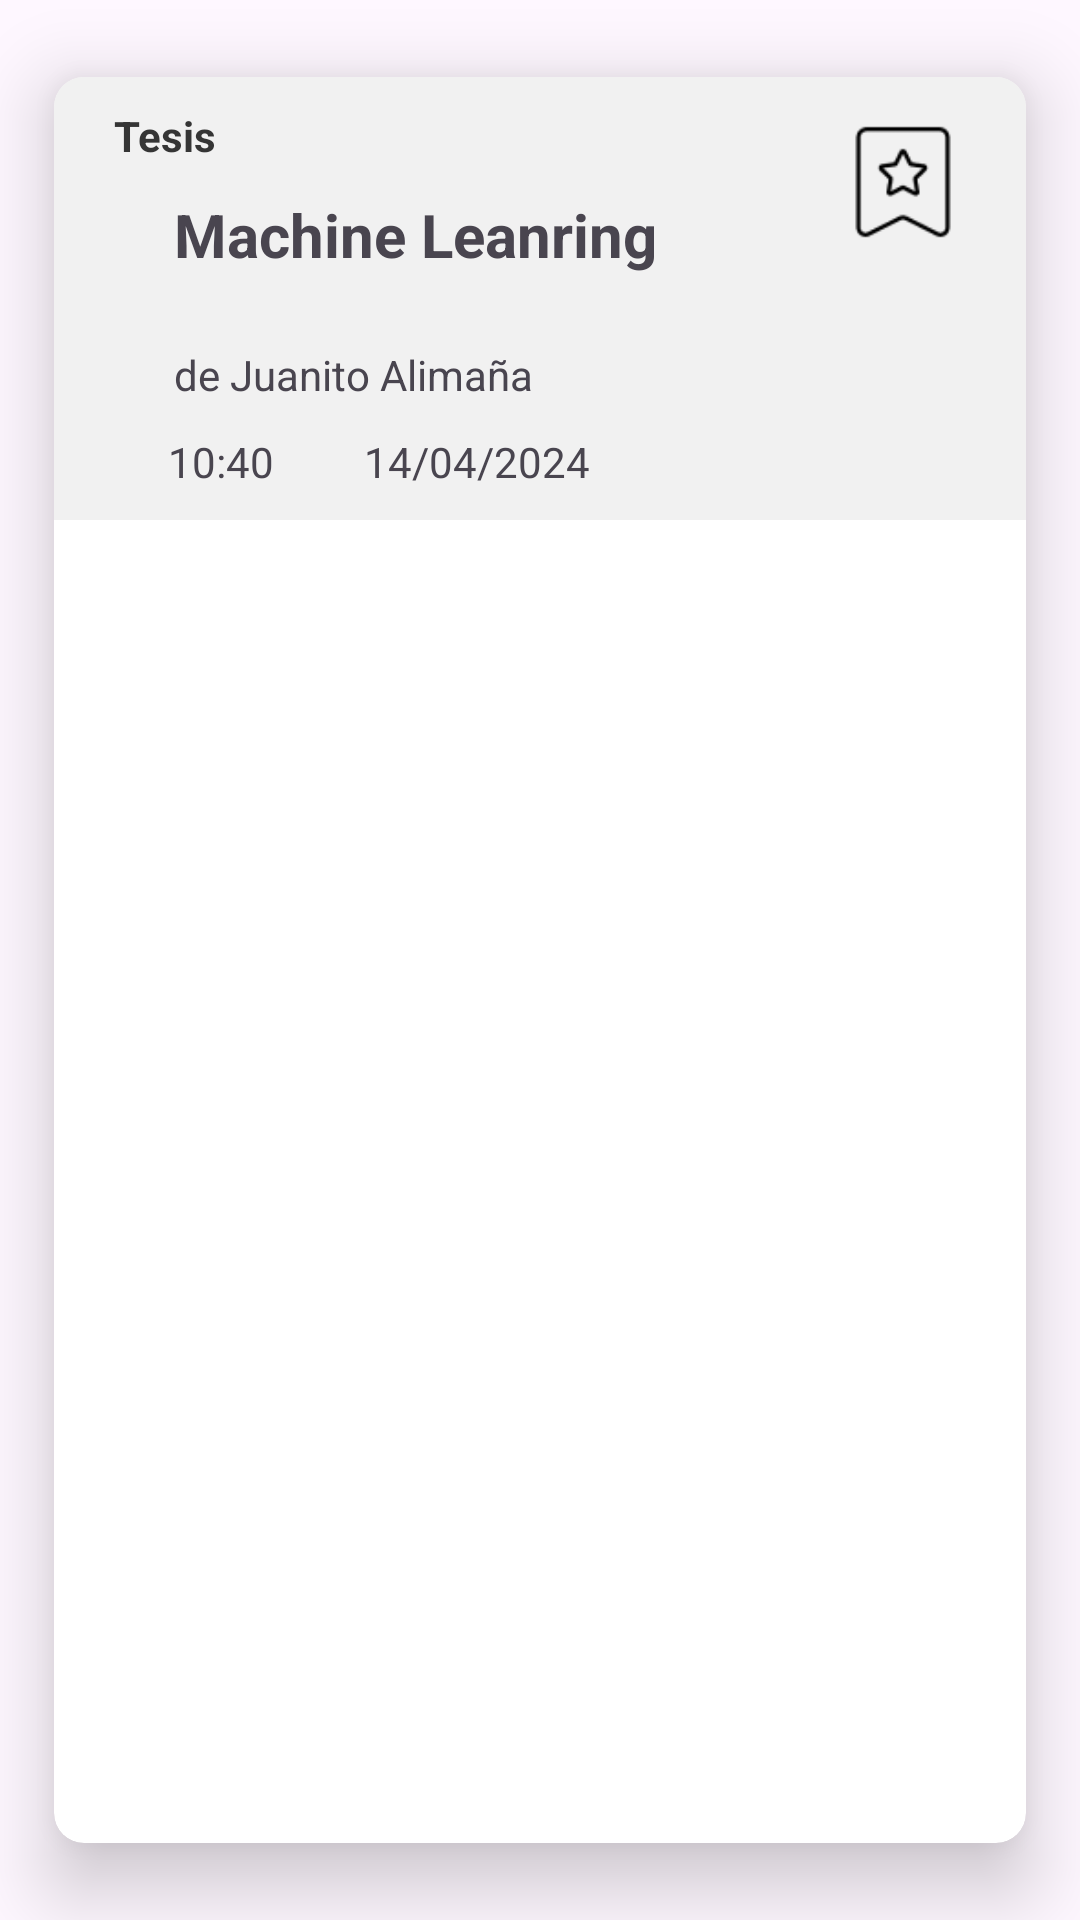

Point at icon controls on the screen. Image size 1080 × 1920, points as (x,y).
not favorite: (903,182)
